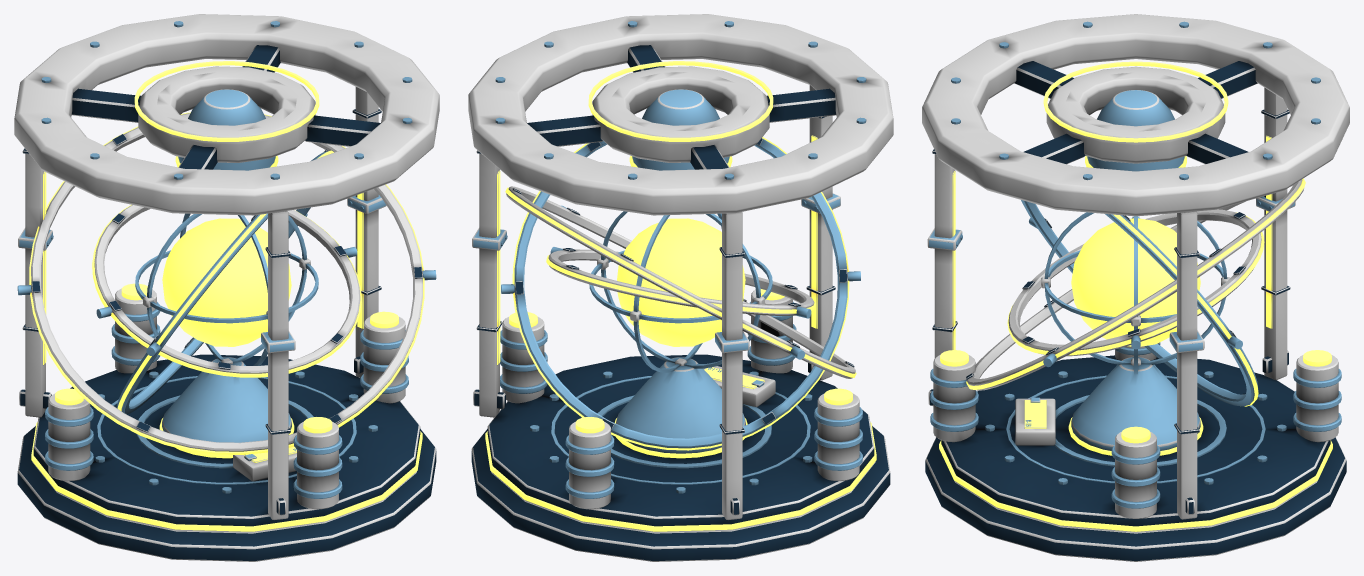
File: neutral.glb
The picture shows the model from 3 angles, left to right: view 1: azimuth 30°, elevation 25°; view 2: azimuth 150°, elevation 25°; view 3: azimuth 270°, elevation 25°; orthographic projection.
Visible parts, largest first — view 1: neutral__tapa, neutral__base, neutral__anillo_3, neutral__corazon, neutral__anillo_1, neutral__inyector_inferior, neutral__columna_3, neutral__columna_2, neutral__anillo_2, neutral__bobina_4, neutral__bobina_3, neutral__columna_1 (+5 smaller); view 2: neutral__tapa, neutral__base, neutral__corazon, neutral__anillo_2, neutral__inyector_inferior, neutral__columna_2, neutral__anillo_3, neutral__columna_1, neutral__bobina_3, neutral__bobina_2, neutral__anillo_1, neutral__jaula (+5 smaller); view 3: neutral__tapa, neutral__base, neutral__corazon, neutral__inyector_inferior, neutral__columna_1, neutral__anillo_3, neutral__anillo_1, neutral__columna_2, neutral__anillo_2, neutral__columna_3, neutral__bobina_1, neutral__bobina_2 (+4 smaller).
Part boxes in pixels (x1,y1,x2,y2): neutral__tapa: [14, 14, 439, 215]; neutral__base: [17, 354, 436, 561]; neutral__anillo_3: [17, 112, 436, 454]; neutral__corazon: [162, 218, 291, 346]; neutral__anillo_1: [92, 204, 361, 377]; neutral__inyector_inferior: [159, 357, 294, 458]; neutral__columna_3: [265, 211, 290, 519]; neutral__columna_2: [19, 148, 51, 417]; neutral__anillo_2: [117, 149, 333, 414]; neutral__bobina_4: [293, 417, 342, 509]; neutral__bobina_3: [45, 388, 93, 480]; neutral__columna_1: [352, 87, 381, 377]; neutral__tapa: [468, 14, 893, 215]; neutral__base: [471, 354, 890, 561]; neutral__corazon: [617, 218, 745, 346]; neutral__anillo_2: [501, 137, 860, 450]; neutral__inyector_inferior: [614, 357, 747, 458]; neutral__columna_2: [719, 212, 744, 519]; neutral__anillo_3: [505, 186, 856, 378]; neutral__columna_1: [473, 150, 505, 417]; neutral__bobina_3: [814, 388, 862, 480]; neutral__bobina_2: [565, 417, 614, 509]; neutral__anillo_1: [546, 247, 815, 318]; neutral__jaula: [589, 211, 772, 372]; neutral__tapa: [922, 14, 1349, 216]; neutral__base: [925, 355, 1346, 561]; neutral__corazon: [1071, 218, 1200, 346]; neutral__inyector_inferior: [1068, 357, 1203, 455]; neutral__columna_1: [1174, 211, 1199, 519]; neutral__anillo_3: [966, 178, 1305, 390]; neutral__anillo_1: [1007, 209, 1264, 356]; neutral__columna_2: [1261, 87, 1290, 380]; neutral__anillo_2: [1021, 200, 1258, 406]; neutral__columna_3: [928, 149, 957, 405]; neutral__bobina_1: [1111, 426, 1160, 518]; neutral__bobina_2: [1293, 350, 1341, 442].
Bounding box in the file's own units: 2.64 × 2.55 × 2.64.
